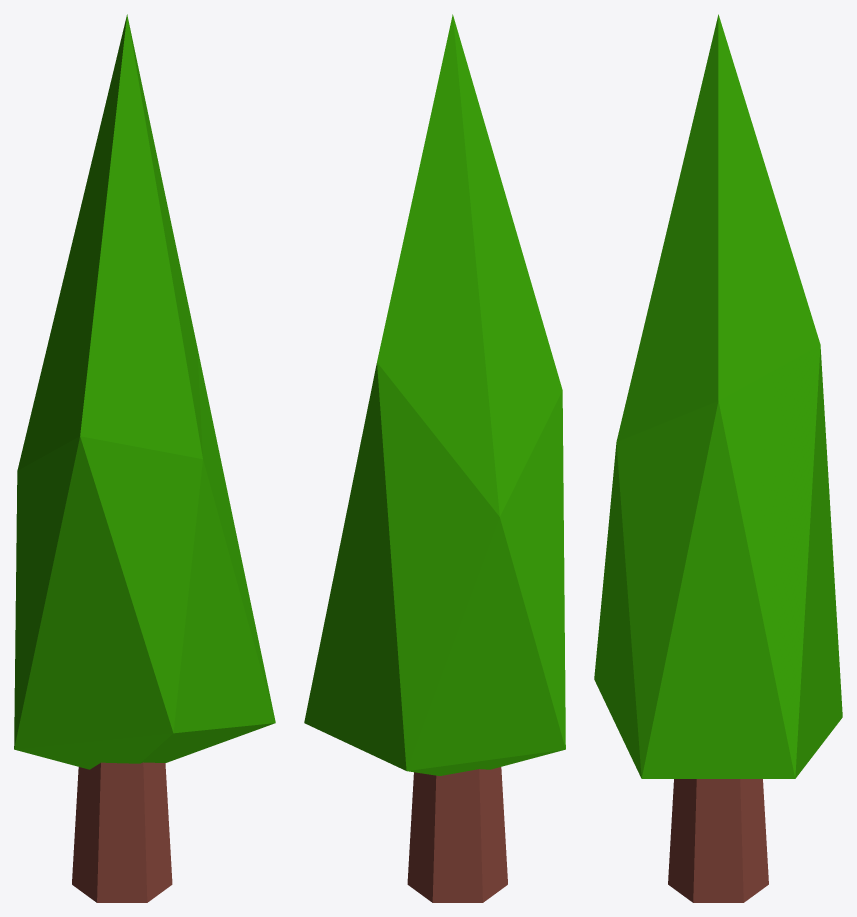
The model's file is tree.glb.
3 views of the same model, side by side, from view 1: azimuth 30°, elevation 25°; view 2: azimuth 150°, elevation 25°; view 3: azimuth 270°, elevation 25° (orthographic).
Parts seen in each view (by area): view 1: Tree; view 2: Tree; view 3: Tree.
Part boxes in pixels (left/top/right/bottom): Tree: left=14, top=14, right=275, bottom=902; Tree: left=304, top=14, right=565, bottom=902; Tree: left=594, top=14, right=842, bottom=902.
Size of the model in its own units: 1.76 by 6.54 by 1.69.
